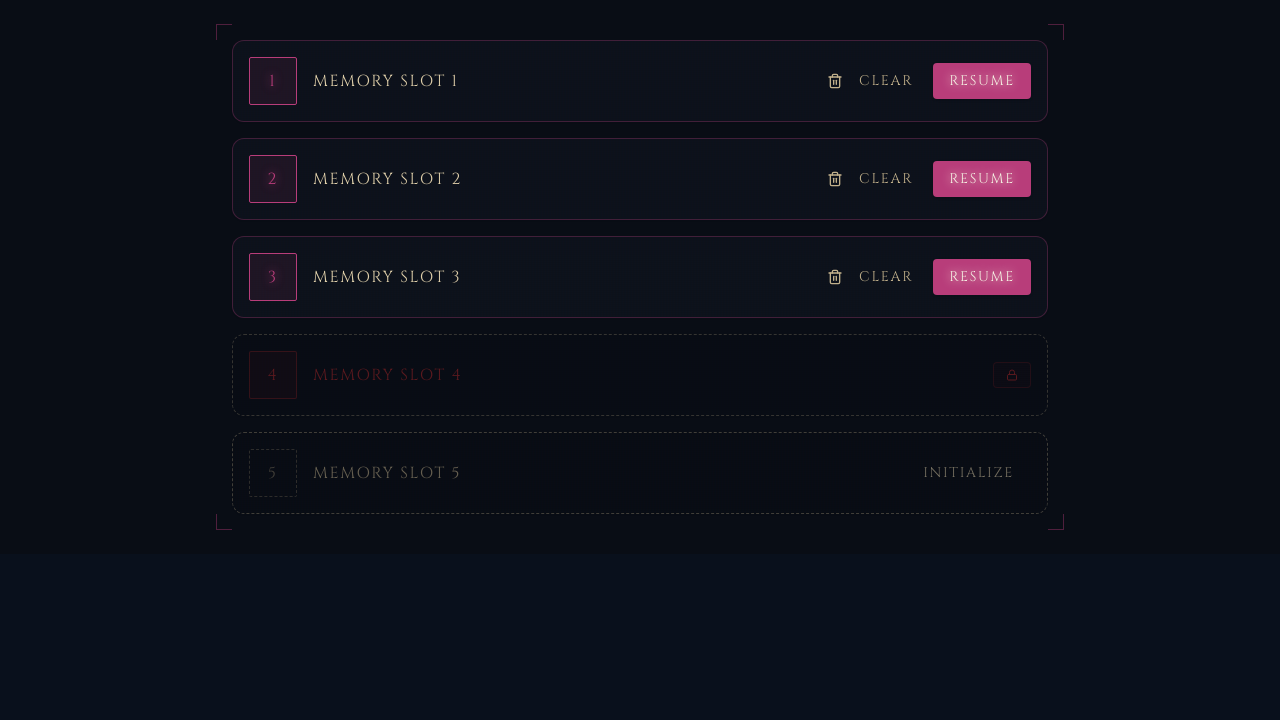
Test: SlotSelector clearing › reports a network failure visibly
The image size is (1280, 720).
Click the button with aria-label "Clear Memory Slot 2" at (870,179), box left=815, top=163, right=925, bottom=195
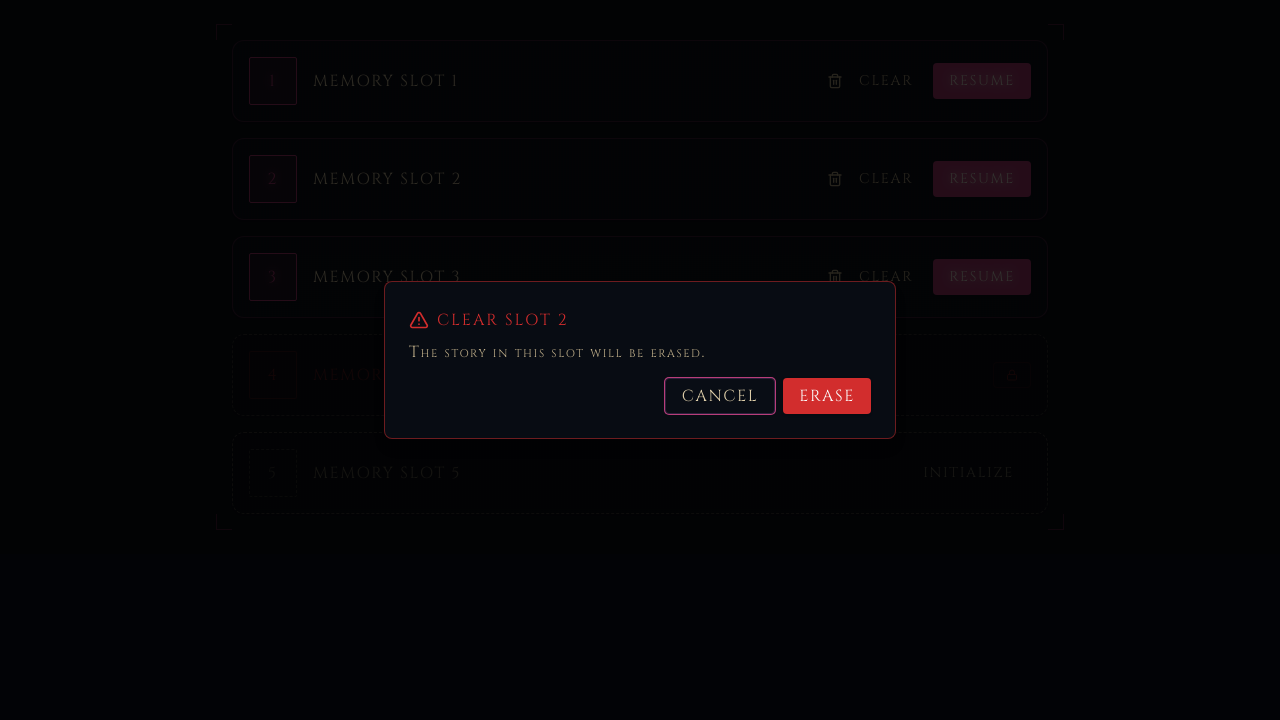
Click the button "ERASE" at (827,396), box left=783, top=378, right=871, bottom=414
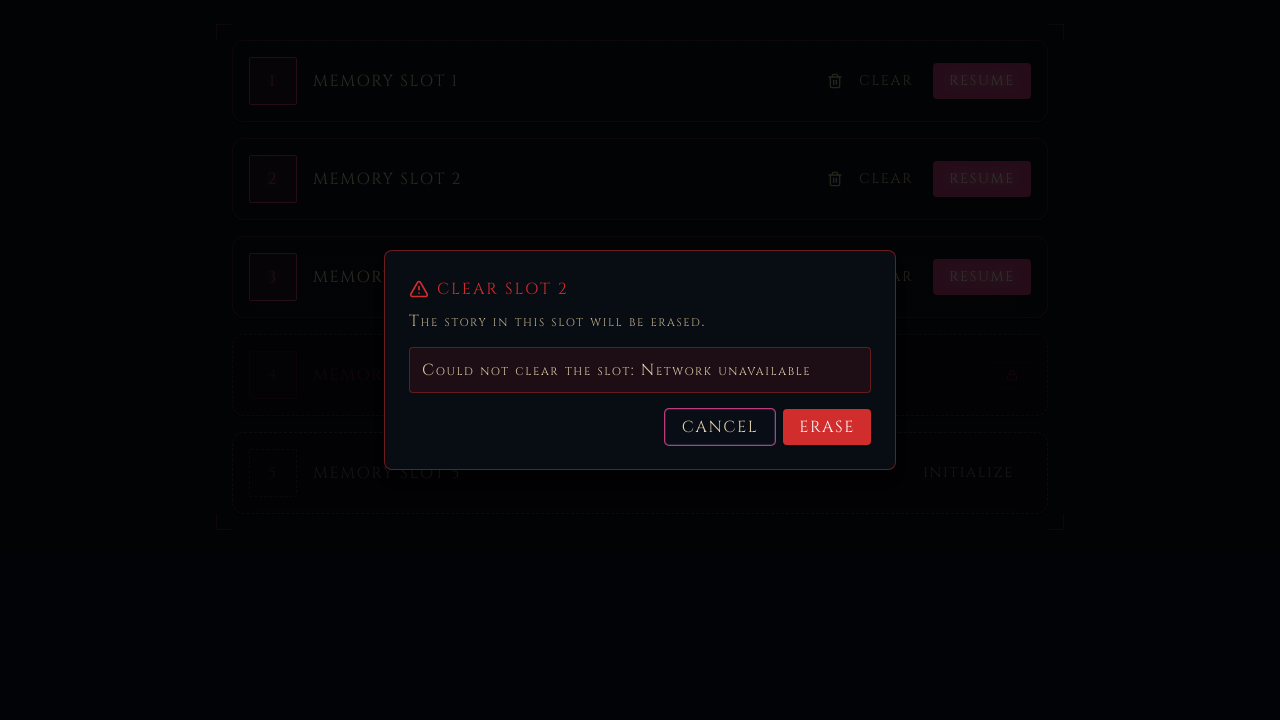
Now the message shows "Network unavailable", box left=641, top=359, right=811, bottom=381
